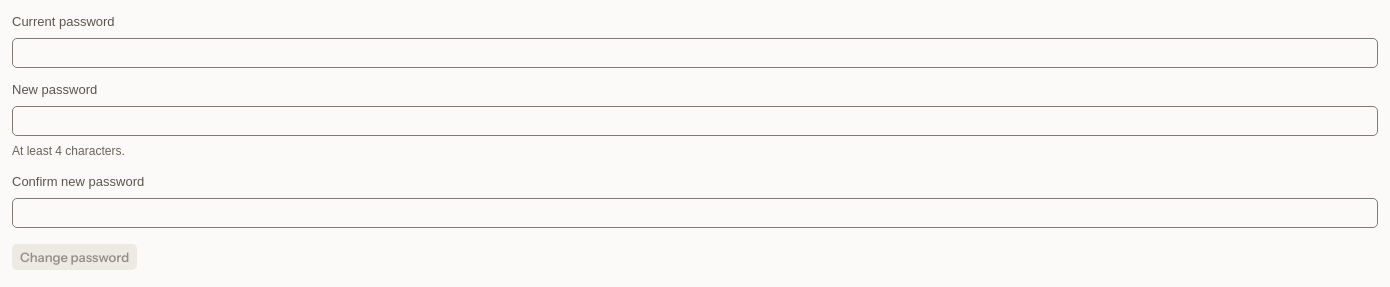
Test: change password › clears the fields and confirms once the change succeeds
Step 1. Type "old-secret" into the password field labelled "Current password" → (695, 53), box [12,38,1378,68]
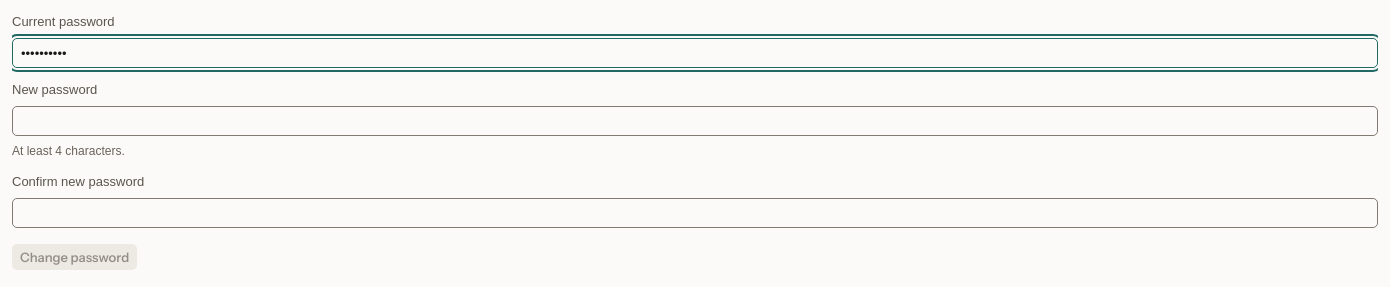
Step 2. Type "new-secret" into the password field labelled "New password" → (695, 121), box [12,106,1378,136]
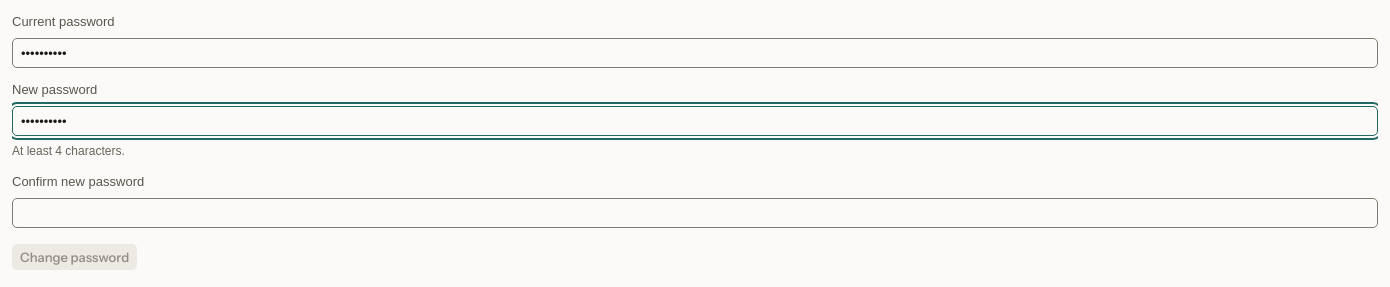
Step 3. Type "new-secret" into the password field labelled "Confirm new password" → (695, 213), box [12,198,1378,228]
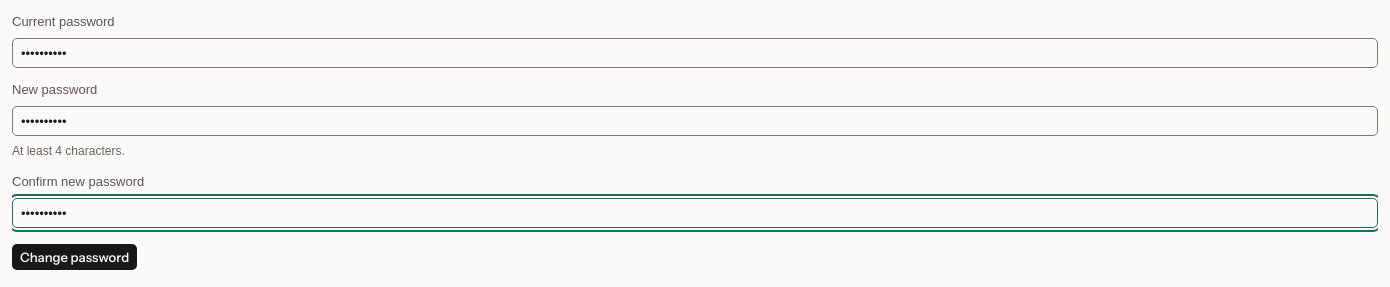
Step 4. Click the button "Change password" → (75, 257), box [12,244,137,270]
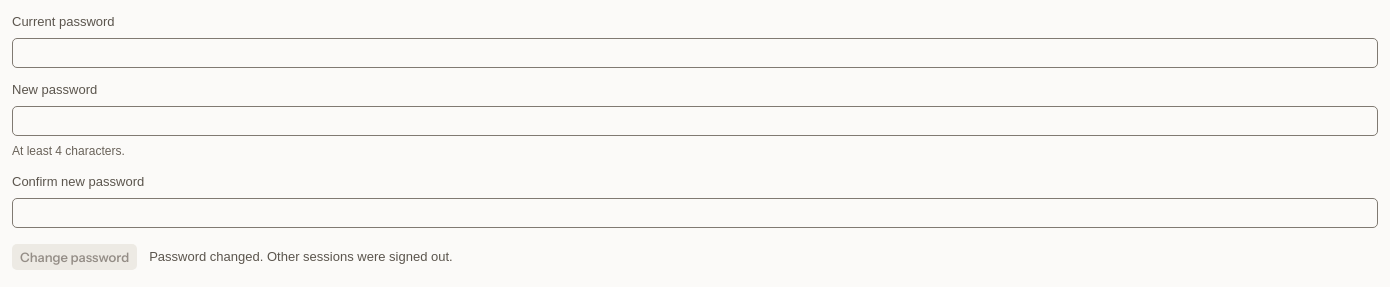
Result: the password field labelled "Current password" is empty at [12,38,1378,68]
Result: the password field labelled "New password" is empty at [12,106,1378,136]
Result: the message shows "Password changed" at [149,249,453,264]
